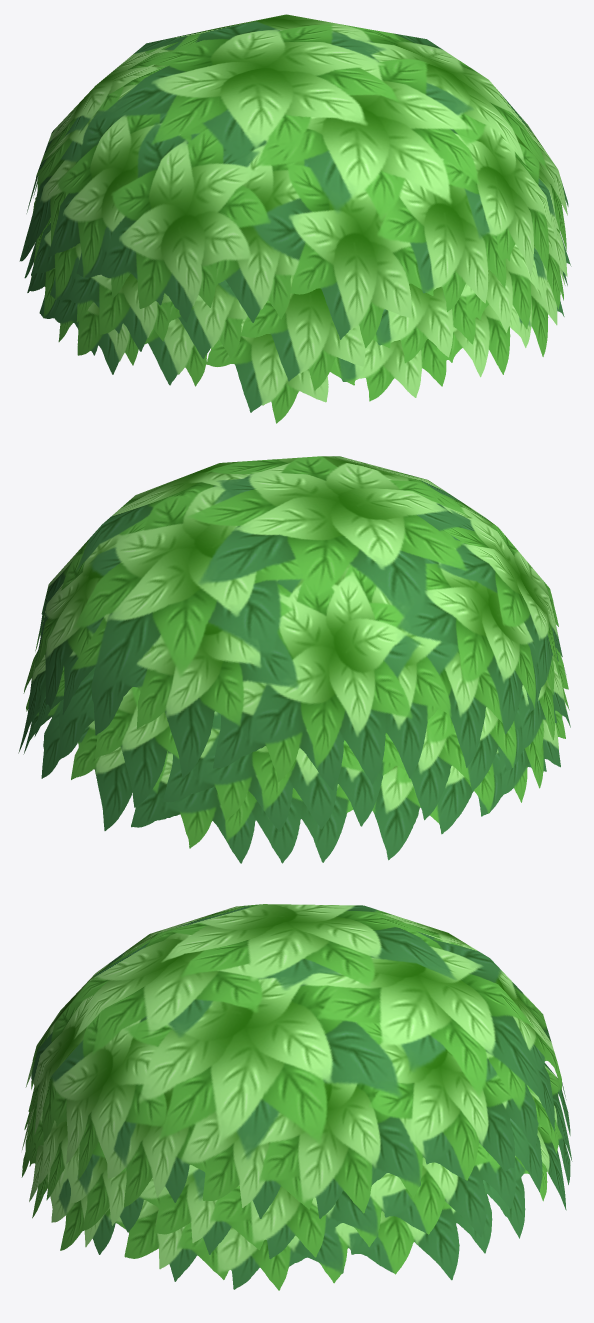
Rendered from Bush 2.fbx.
3 renders of one model, top to bottom at view 1: azimuth 30°, elevation 25°; view 2: azimuth 150°, elevation 25°; view 3: azimuth 270°, elevation 25°, orthographic. The views are drawn at different scales.
Parts seen in each view (by area): view 1: Bush4, Bush5, Bush7; view 2: Bush4, Bush5, Bush7; view 3: Bush4, Bush5, Bush7.
Boxes of the visible parts, x1,y1,x2,y2 form: Bush4: (26,14,568,348); Bush5: (19,197,571,390); Bush7: (24,240,567,423); Bush4: (33,456,562,790); Bush5: (23,648,568,831); Bush7: (18,688,570,863); Bush4: (25,904,566,1218); Bush5: (22,1063,572,1259); Bush7: (21,1124,570,1290).
Bounding box in the file's own units: 6.75 × 3.55 × 7.01.
Materials: 1 (1 with a texture image).
